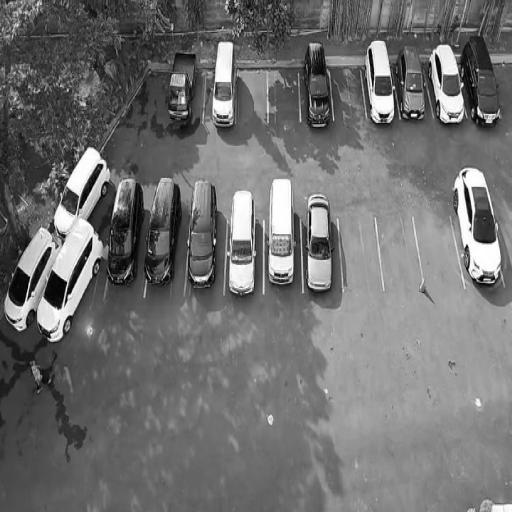Car: (27, 206, 107, 346), (445, 161, 508, 296), (0, 216, 62, 335), (47, 139, 114, 244), (455, 30, 508, 133), (142, 176, 182, 290), (104, 174, 144, 286), (224, 183, 260, 303), (264, 168, 298, 295), (184, 175, 220, 290), (425, 39, 471, 127), (360, 35, 400, 130), (302, 185, 336, 296), (392, 41, 431, 120), (208, 34, 238, 136), (302, 36, 332, 135), (166, 42, 198, 127)
Space Available: (414, 216, 464, 285), (337, 217, 382, 290), (378, 217, 422, 289), (266, 64, 301, 123), (330, 65, 366, 120), (236, 65, 268, 122)
